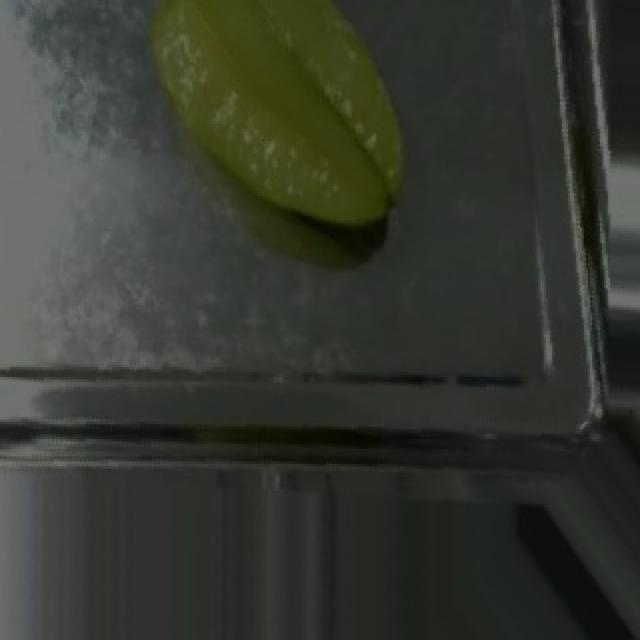fruit: (122, 0, 434, 248)
